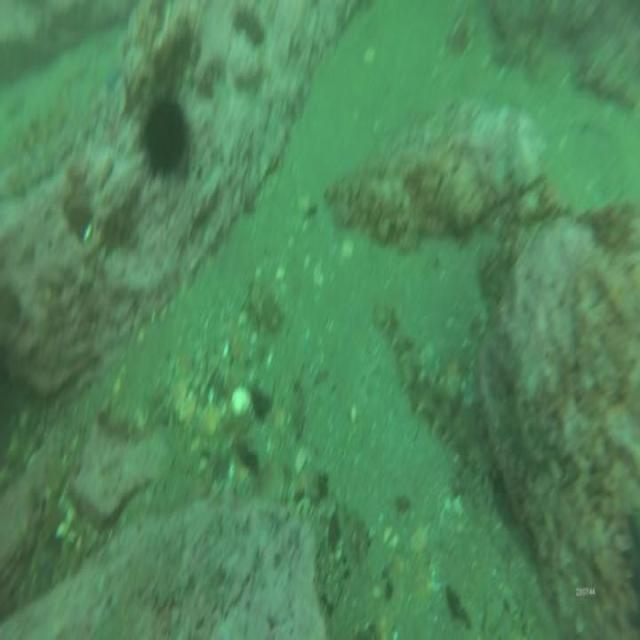echinus: (140, 93, 192, 177)
holothurian: (377, 302, 477, 458)
